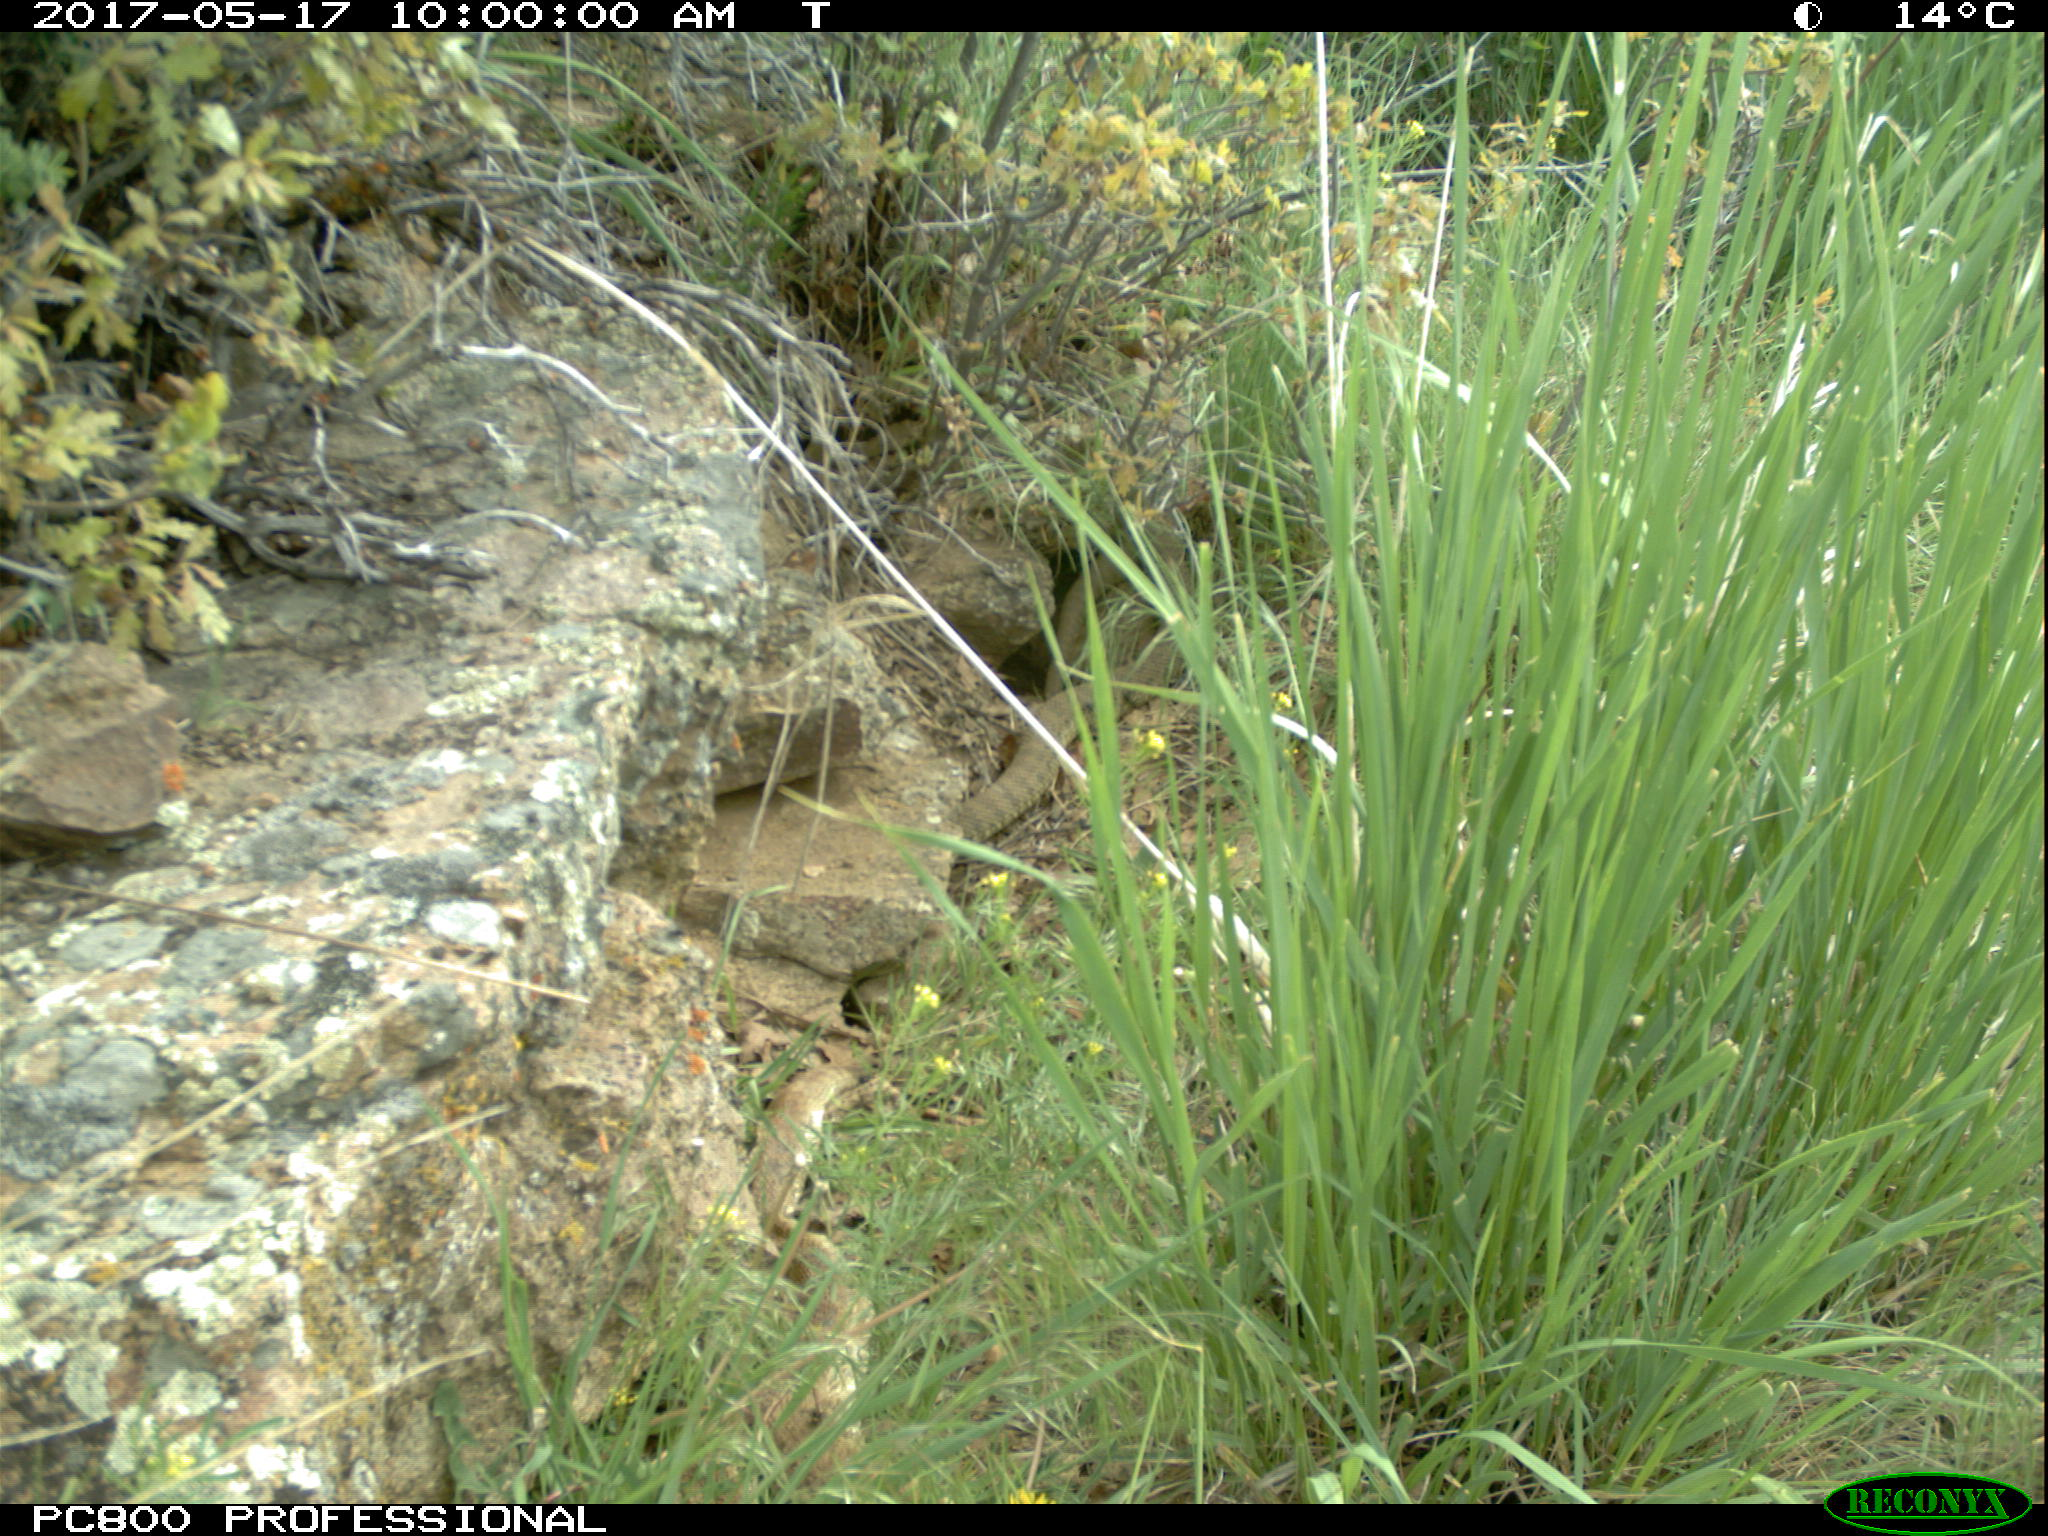snake: (748, 1055, 874, 1465), (932, 679, 1097, 841), (1042, 544, 1119, 679)
